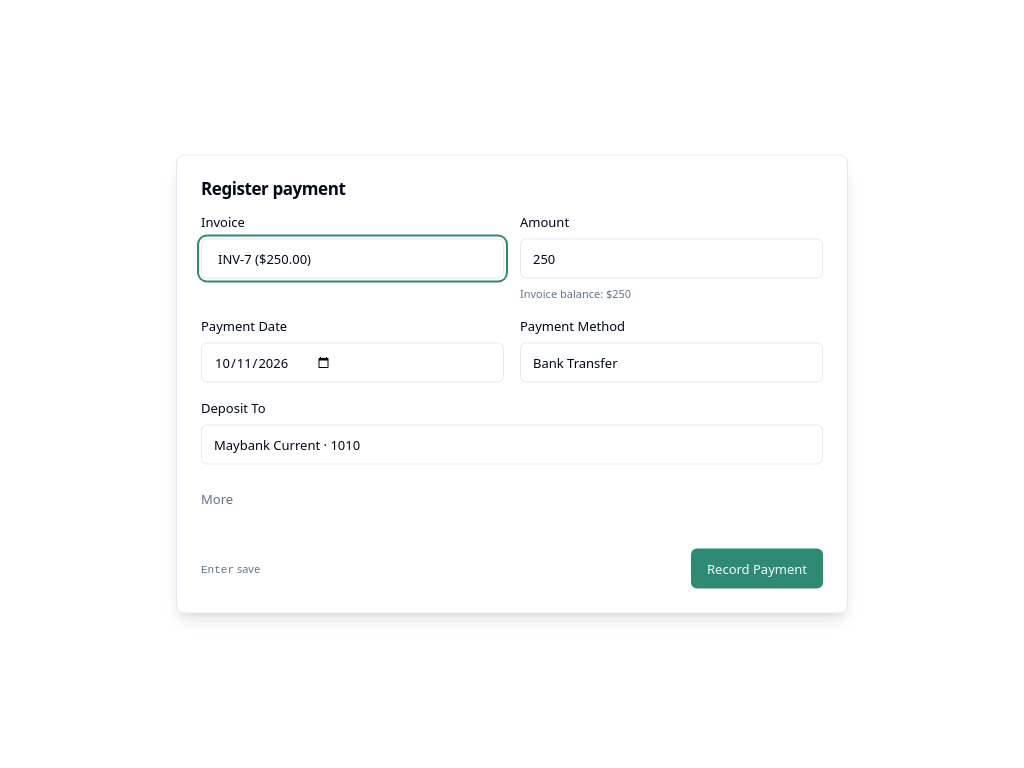
Test case: RegisterPaymentDialog — consolidated entry (#487 PAY-UX1) › shows at most 5 fields by default; reference and notes sit behind "More"
Expected: the number field labelled "Amount" holds "250", [520,238,823,278]
Expected: the field labelled "reference" is not shown
Click the button "More" at (217, 498), box [201,480,233,516]
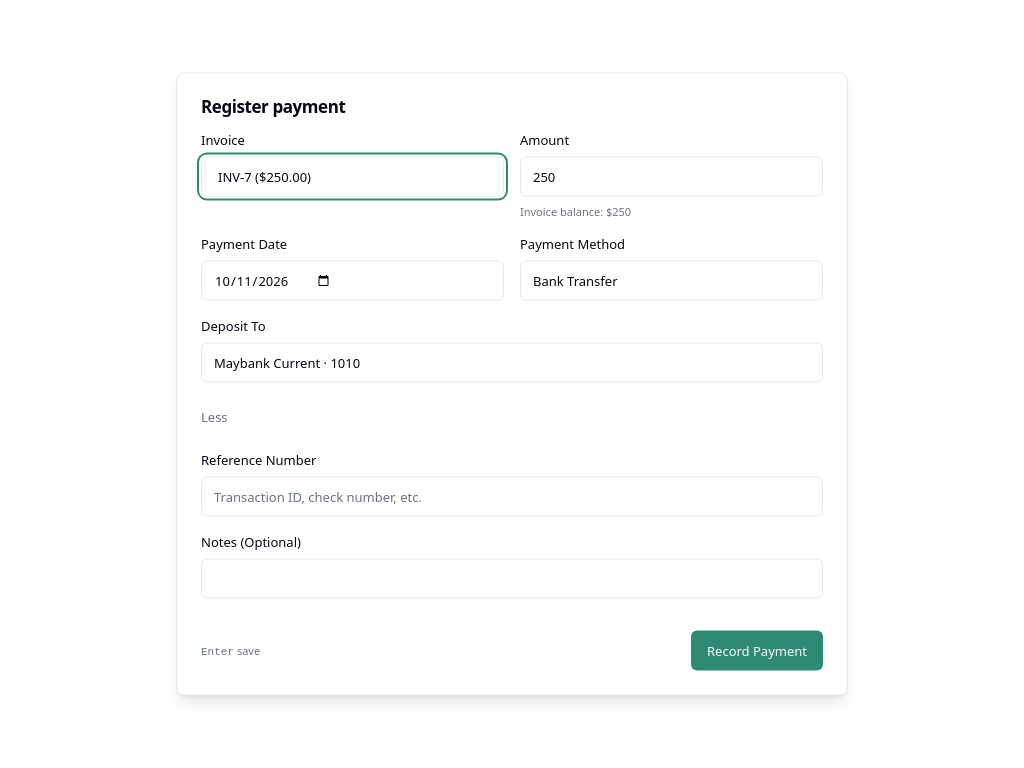
Expected: the field labelled "Reference Number" is shown, [201,476,823,516]
Expected: the field labelled "Notes (Optional)" is shown, [201,558,823,598]
